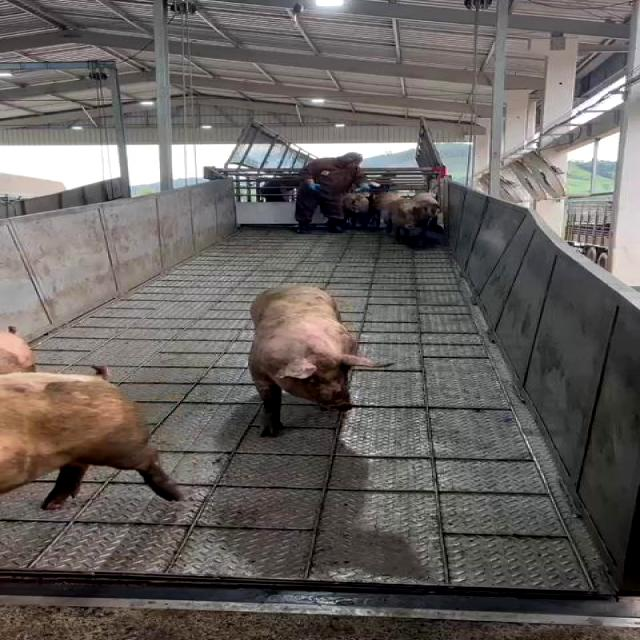pig: (0, 372, 183, 509), (250, 285, 383, 436)
